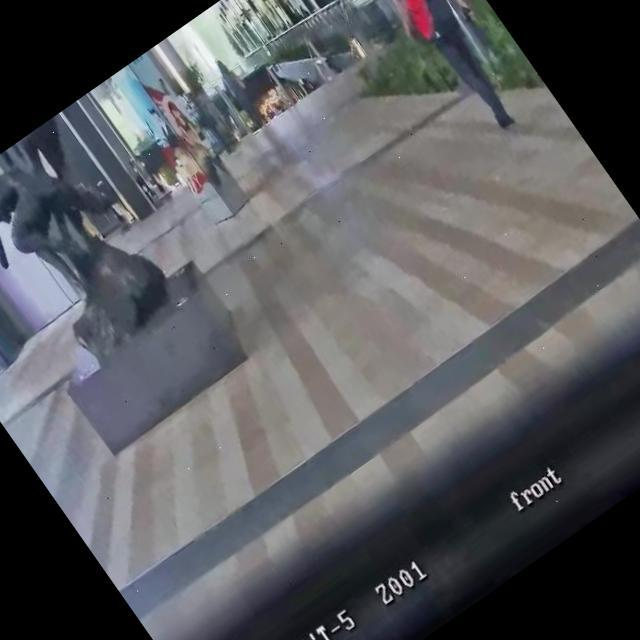person: (330, 0, 541, 147), (210, 52, 272, 130)
